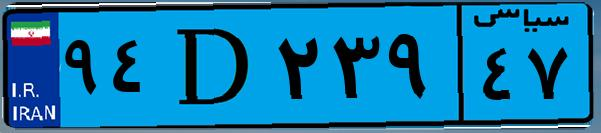2: (270, 28, 330, 110)
3: (330, 28, 385, 110)
4: (475, 38, 525, 113), (110, 28, 158, 98)
7: (525, 38, 570, 115)
9: (385, 28, 445, 110), (57, 26, 110, 100)
D: (158, 12, 270, 120)
